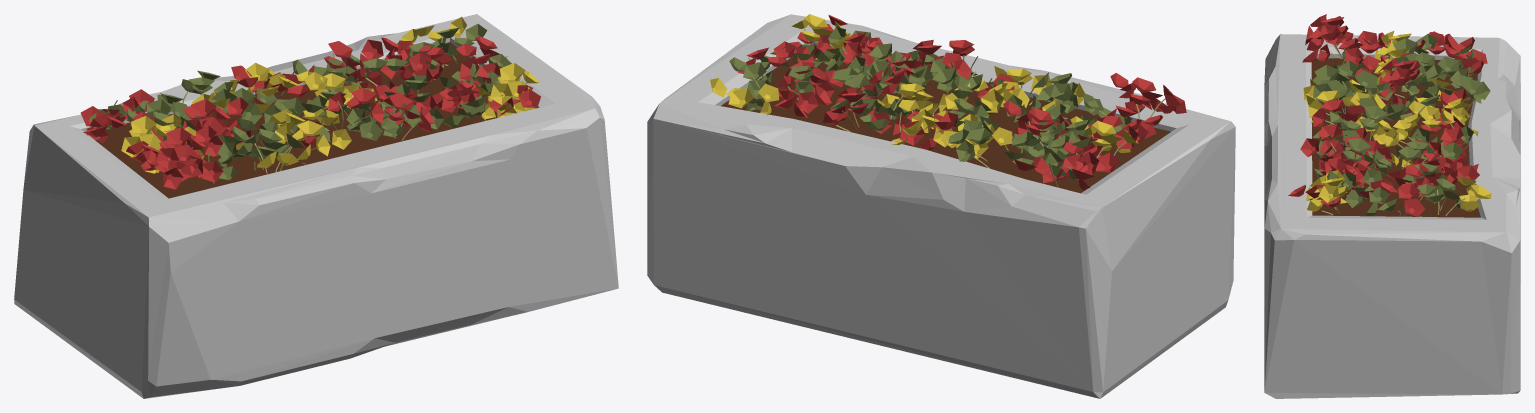
The model's file is SM_flowerbed.fbx.
3 renders of one model, left to right at view 1: azimuth 30°, elevation 25°; view 2: azimuth 150°, elevation 25°; view 3: azimuth 270°, elevation 25°, orthographic. The views are drawn at different scales.
Visible parts, largest first — view 1: Object4134; view 2: Object4134; view 3: Object4134.
Boxes of the visible parts, x1,y1,x2,y2 form: Object4134: (14,14,618,398); Object4134: (647,14,1235,398); Object4134: (1264,14,1520,398).
Size of the model in its own units: 118 by 56.17 by 62.29.
